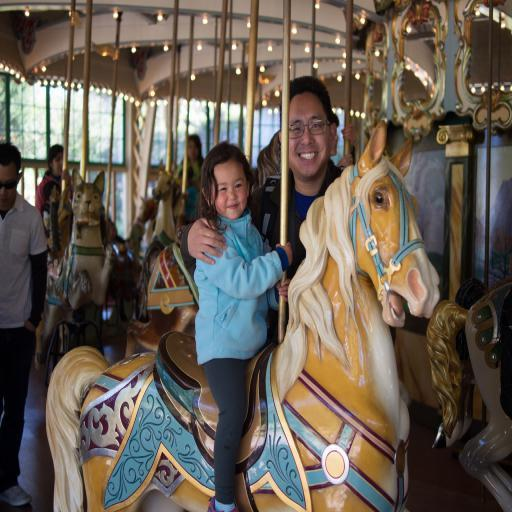horse: (44, 120, 442, 512), (425, 280, 512, 512)
